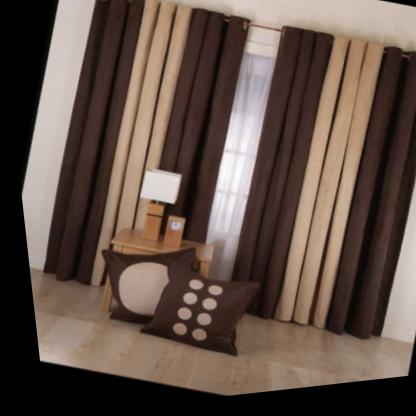Curtains: (36, 0, 416, 348)
Wooden floor: (23, 268, 402, 400)
